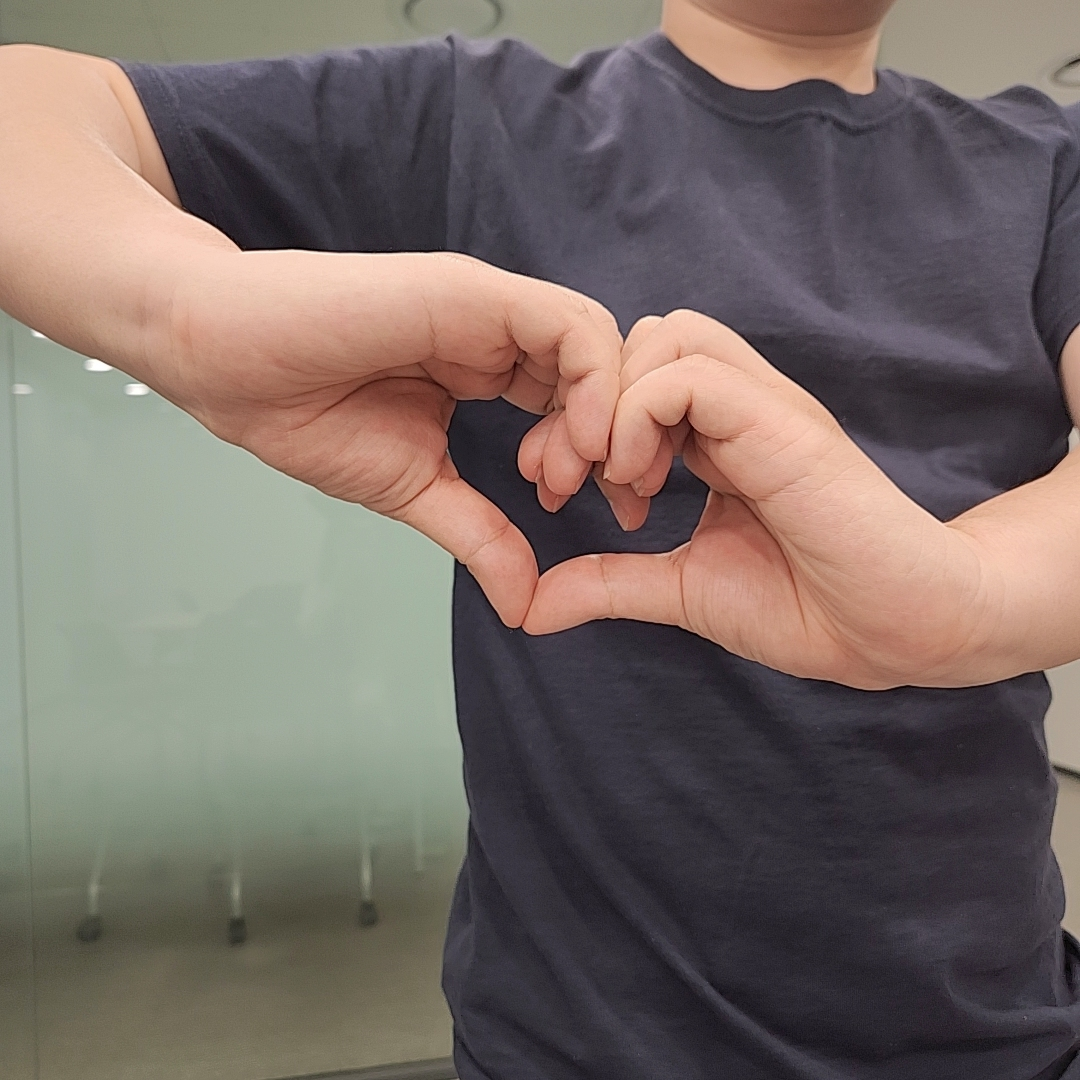heart: (257, 244, 946, 697)
